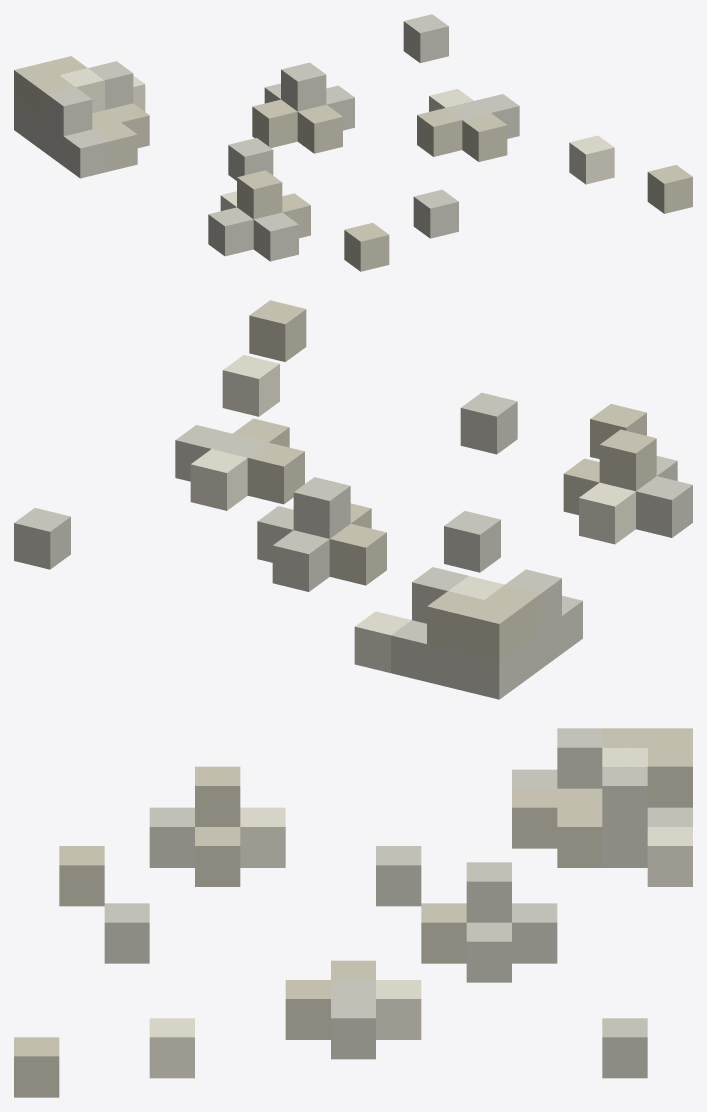
The model's file is Tissue.obj.
3 views of the same model, one above another, from view 1: azimuth 30°, elevation 25°; view 2: azimuth 150°, elevation 25°; view 3: azimuth 270°, elevation 25° (orthographic). The views are drawn at different scales.
Parts seen in each view (by area): view 1: Tissue; view 2: Tissue; view 3: Tissue.
Boxes of the visible parts, x1,y1,x2,y2 form: Tissue: [14, 14, 692, 271]; Tissue: [14, 300, 692, 699]; Tissue: [14, 728, 692, 1097].
Bounding box in the file's own units: 1.5 × 0.2 × 1.5.
Materials: 1 (1 with a texture image).
